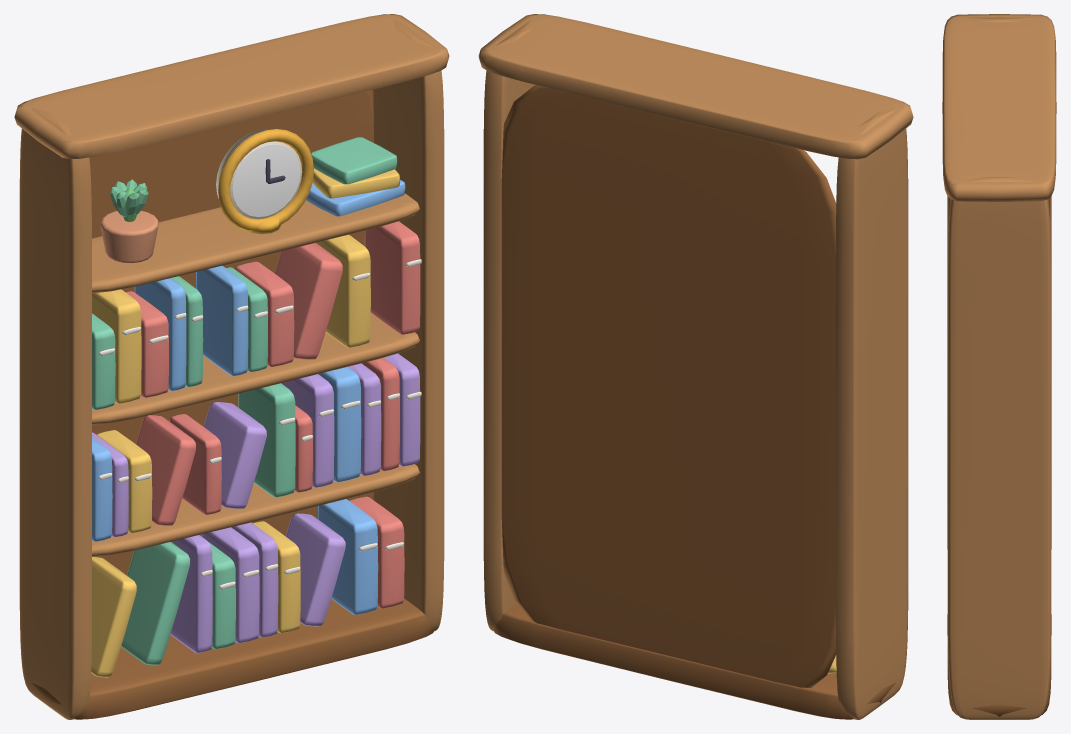
The model's file is bookshelf.glb.
3 renders of one model, left to right at view 1: azimuth 30°, elevation 25°; view 2: azimuth 150°, elevation 25°; view 3: azimuth 270°, elevation 25°, orthographic. The views are drawn at different scales.
Parts seen in each view (by area): view 1: bookshelf; view 2: bookshelf; view 3: bookshelf.
Part boxes in pixels (box(x1,y1,x2,y2)): bookshelf: box(14, 14, 449, 719); bookshelf: box(478, 14, 913, 719); bookshelf: box(942, 14, 1056, 719).
Bounding box in the file's own units: 1.68 × 2.4 × 0.46.
1 material, 1 textured.
